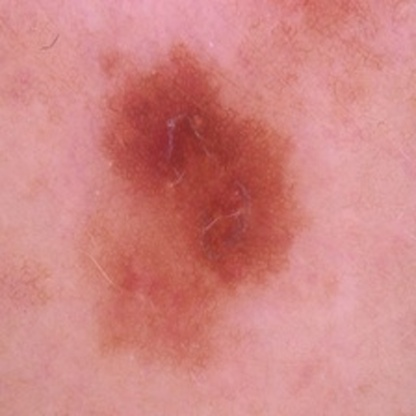benign: (109, 80, 293, 336)
